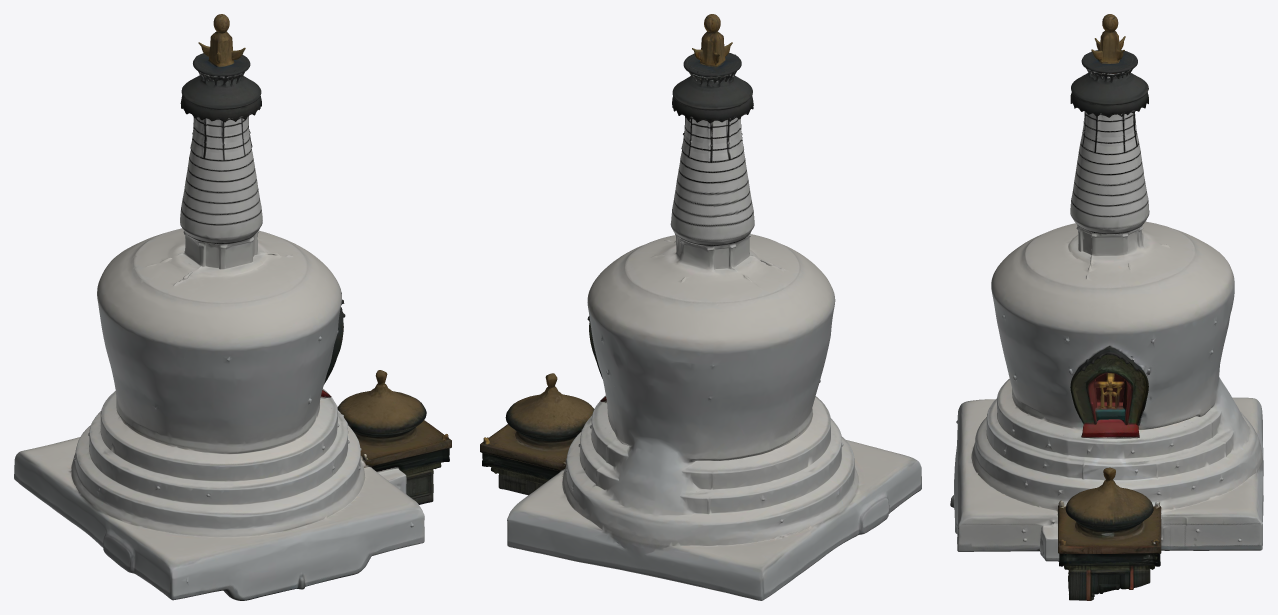
File: detail.glb
3 views of the same model, side by side, from view 1: azimuth 30°, elevation 25°; view 2: azimuth 150°, elevation 25°; view 3: azimuth 270°, elevation 25° (orthographic). The views are drawn at different scales.
Parts seen in each view (by area): view 1: beihai/tripo_node_5570df20-f916-4795-a277-256662f28785; view 2: beihai/tripo_node_5570df20-f916-4795-a277-256662f28785; view 3: beihai/tripo_node_5570df20-f916-4795-a277-256662f28785.
Part boxes in pixels (<box>): beihai/tripo_node_5570df20-f916-4795-a277-256662f28785: <box>14,14,451,600</box>; beihai/tripo_node_5570df20-f916-4795-a277-256662f28785: <box>480,14,921,600</box>; beihai/tripo_node_5570df20-f916-4795-a277-256662f28785: <box>950,14,1263,600</box>.
Bounding box in the file's own units: 0.2455 × 0.36 × 0.2055.
Materials: 1 (1 with a texture image).
